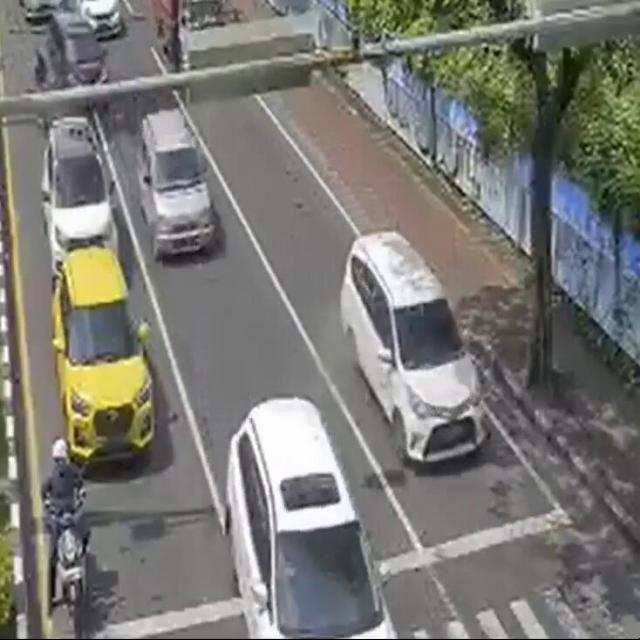car: (197, 387, 417, 640), (359, 224, 497, 455), (54, 268, 158, 452), (36, 119, 130, 260), (134, 116, 232, 250)
motorbike: (38, 457, 113, 622)
